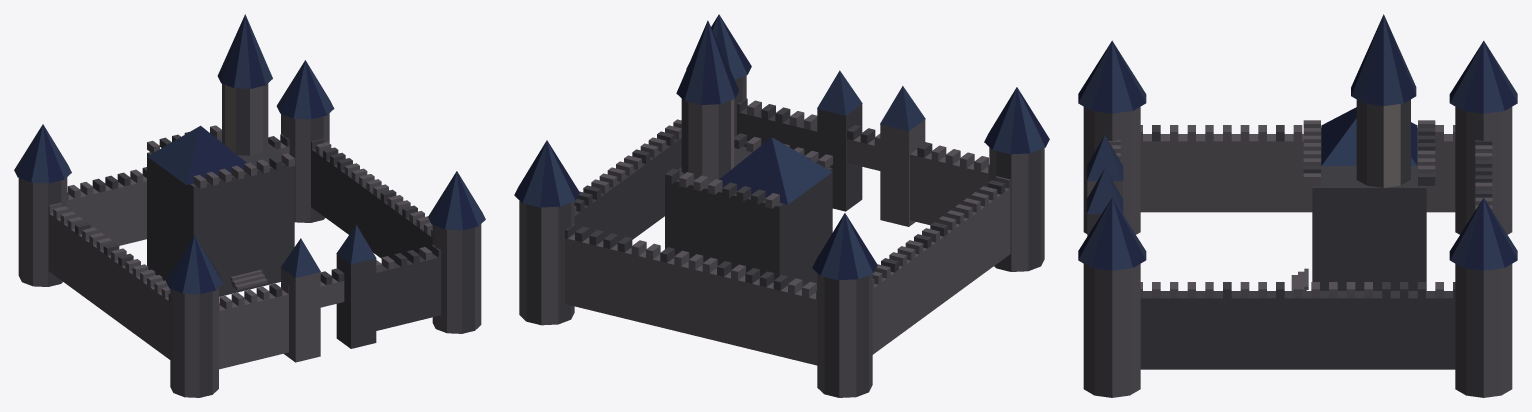
Rendered from castle.gltf.
3 views of the same model, side by side, from view 1: azimuth 30°, elevation 25°; view 2: azimuth 150°, elevation 25°; view 3: azimuth 270°, elevation 25° (orthographic). The views are drawn at different scales.
Size of the model in its own units: 62 by 48 by 61.51.
